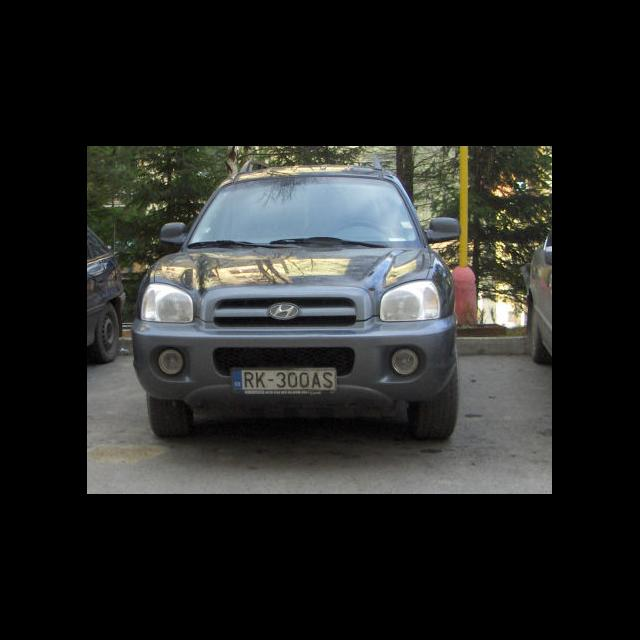Plate: (232, 366, 338, 393)
